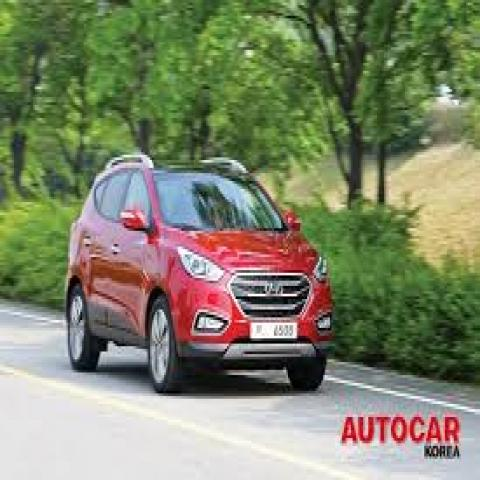LP: (243, 310, 302, 348)
